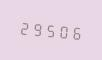five: (44, 19, 56, 40)
nine: (31, 18, 43, 39)
six: (70, 21, 82, 42)
two: (18, 17, 30, 38)
zero: (57, 20, 69, 41)
